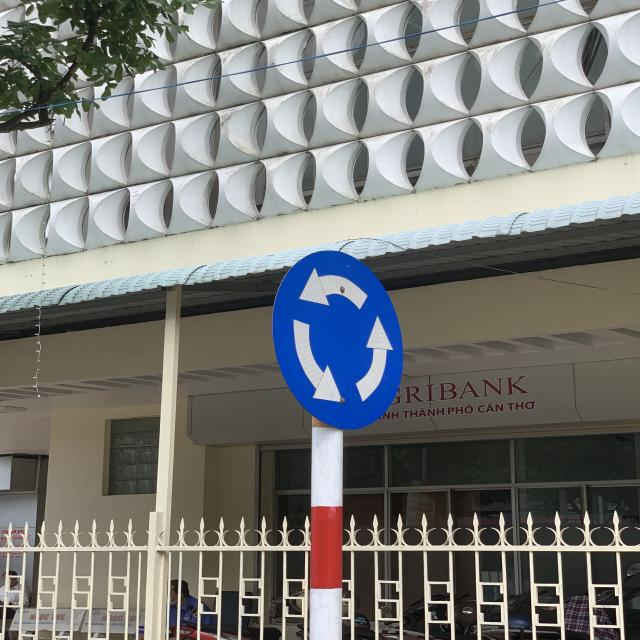Xe_Bus: (272, 250, 405, 430)
